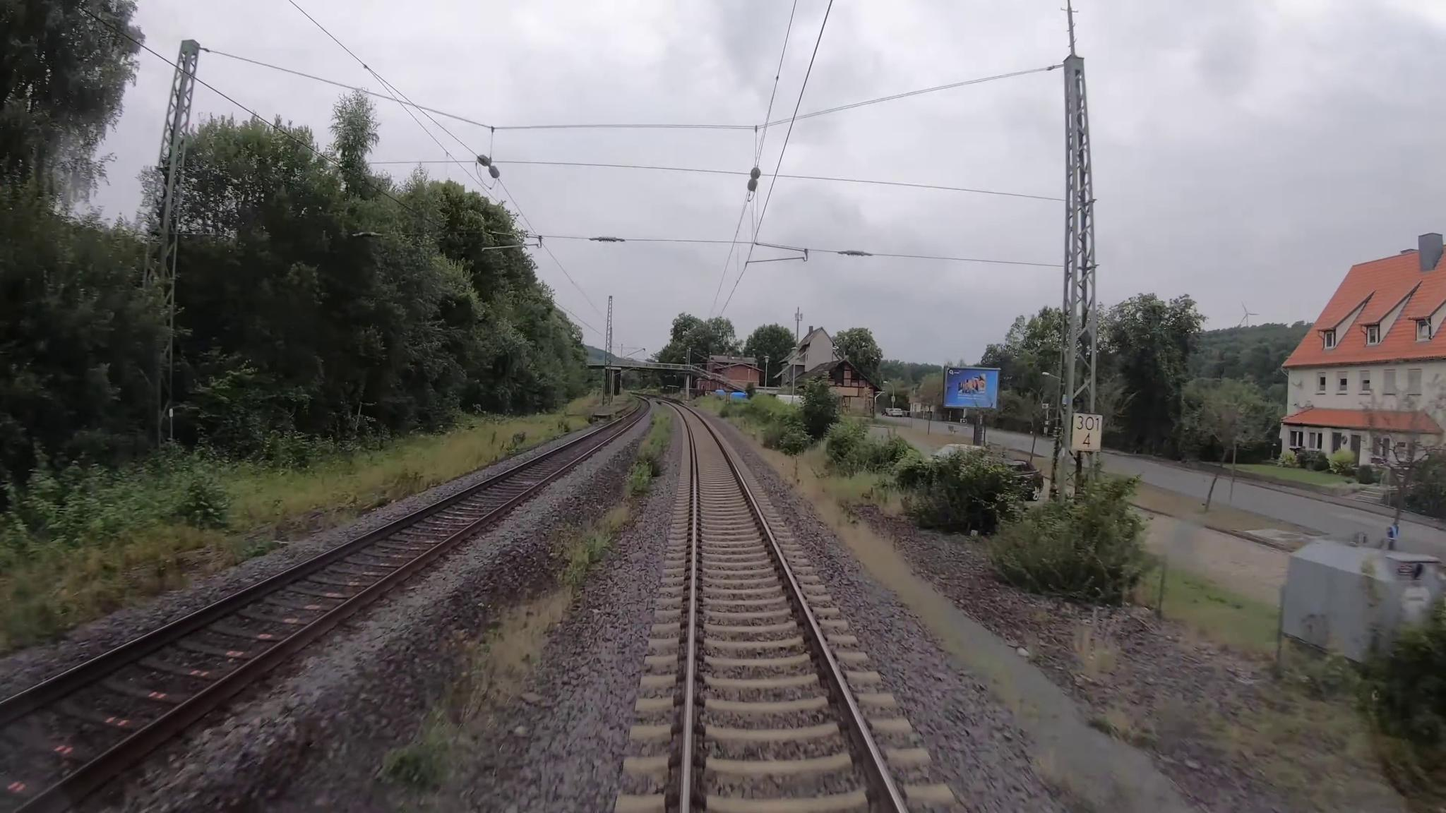Plant: (366, 580, 583, 812), (551, 503, 627, 586), (621, 401, 677, 503)
